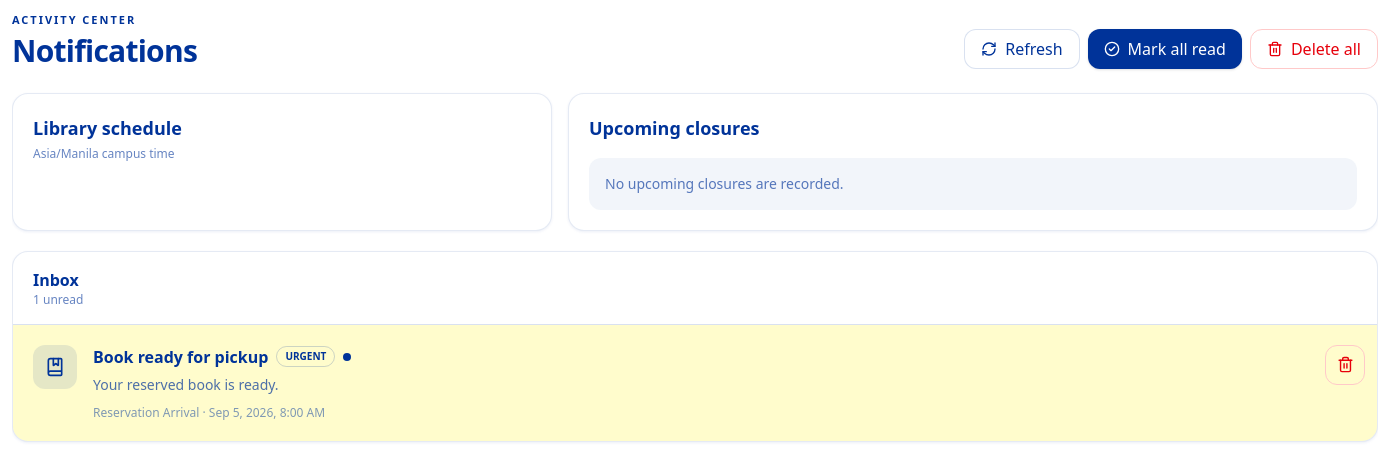
Test: notification center › lets the signed-in user delete a notification from the inbox
The width and height of the screenshot is (1390, 464).
Click the button named "Delete Book ready for pickup" at (1345, 364), box [1325, 344, 1365, 384]
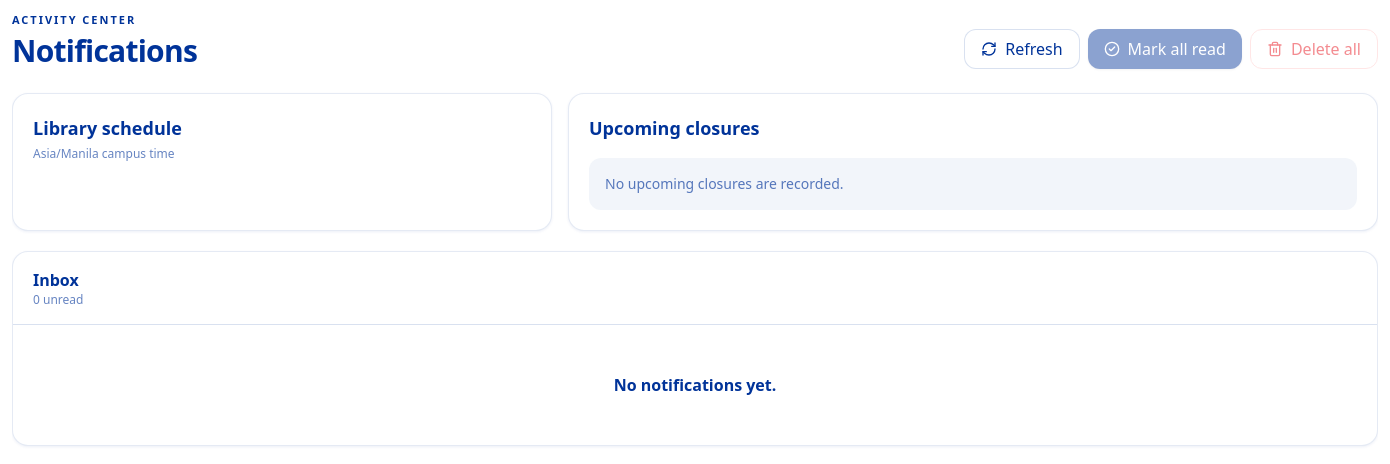
Now the text "No notifications yet." is shown, box [614, 374, 776, 396]
